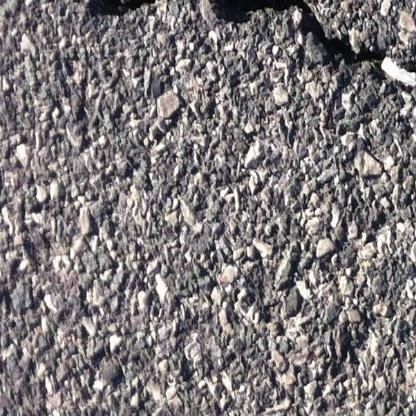Cracks: (67, 0, 390, 75)
